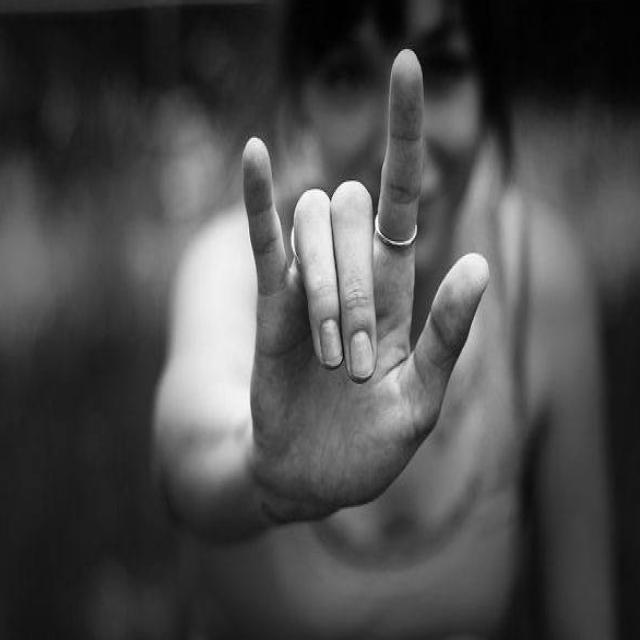i love you: (236, 42, 494, 533)
